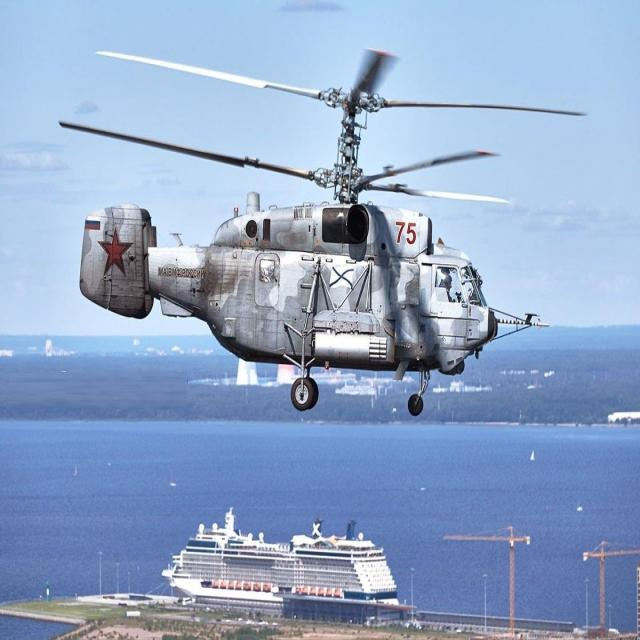MIL_HELO: (40, 32, 591, 448)
